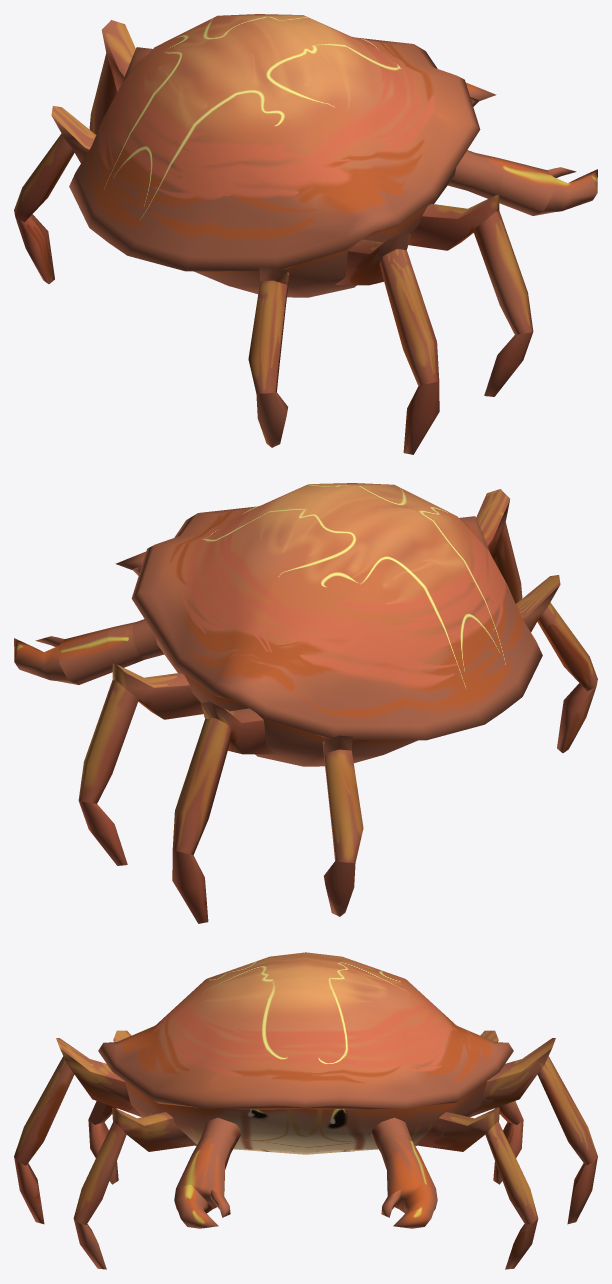
File: Crabe.glb
3 views of the same model, one above another, from view 1: azimuth 30°, elevation 25°; view 2: azimuth 150°, elevation 25°; view 3: azimuth 270°, elevation 25° (orthographic). The views are drawn at different scales.
Visible parts, largest first — view 1: Corps, Patte, GrossesPinces; view 2: Corps, Patte, GrossesPinces; view 3: Corps, Patte, GrossesPinces.
Part boxes in pixels (bbox=[...]): Corps: bbox=[69, 14, 480, 297]; Patte: bbox=[14, 20, 533, 454]; GrossesPinces: bbox=[447, 82, 597, 215]; Corps: bbox=[131, 483, 542, 766]; Patte: bbox=[78, 489, 597, 923]; GrossesPinces: bbox=[14, 551, 164, 684]; Corps: bbox=[98, 952, 513, 1154]; Patte: bbox=[14, 1030, 597, 1269]; GrossesPinces: bbox=[174, 1117, 437, 1228].
Bounding box in the file's own units: 0.9239 × 0.6168 × 1.24.
Materials: 3 (3 with a texture image).
